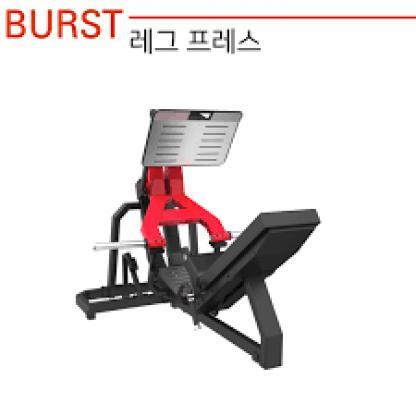leg press: (57, 92, 336, 376)
